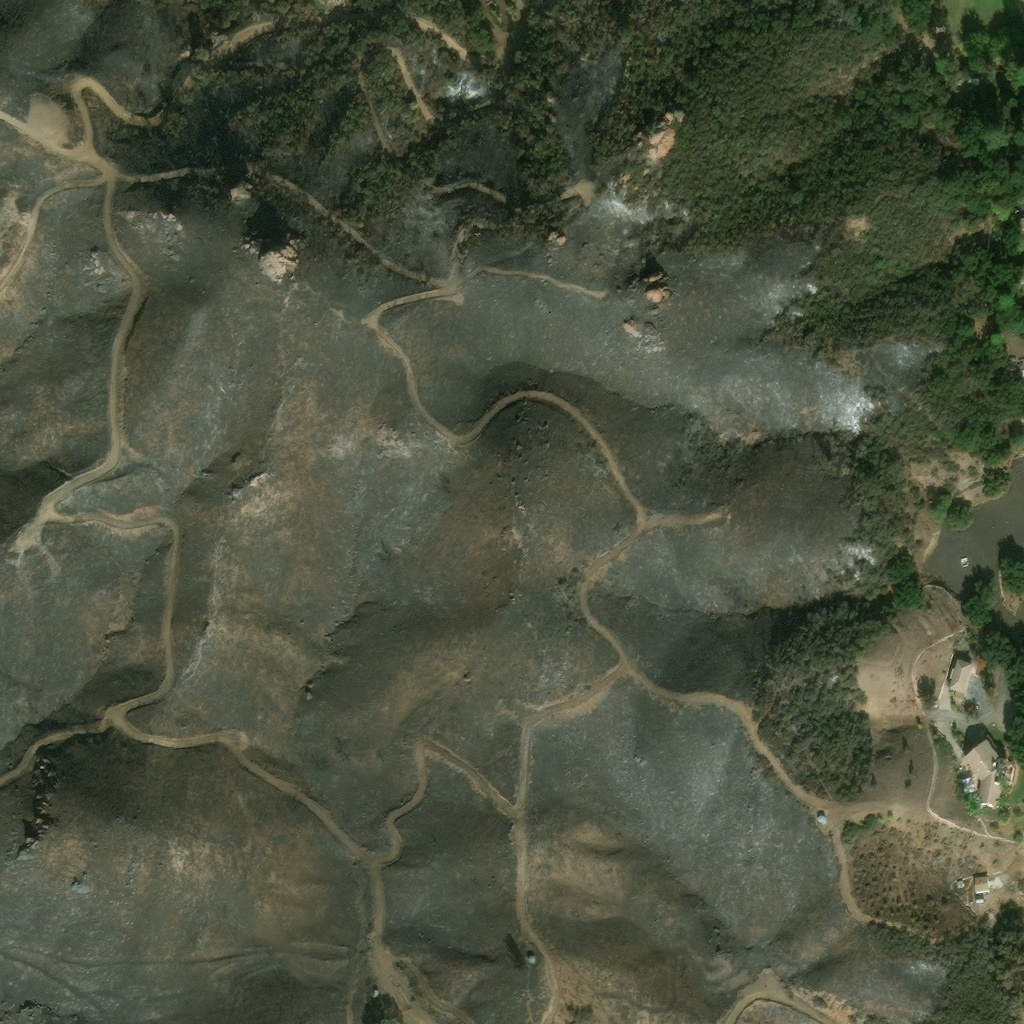0 no-damage: (957, 732, 1015, 806), (946, 656, 973, 693), (1006, 354, 1023, 377), (521, 946, 536, 966), (974, 874, 989, 892), (963, 73, 978, 84), (961, 776, 973, 789), (817, 814, 827, 824), (975, 895, 983, 902), (372, 988, 379, 996)
